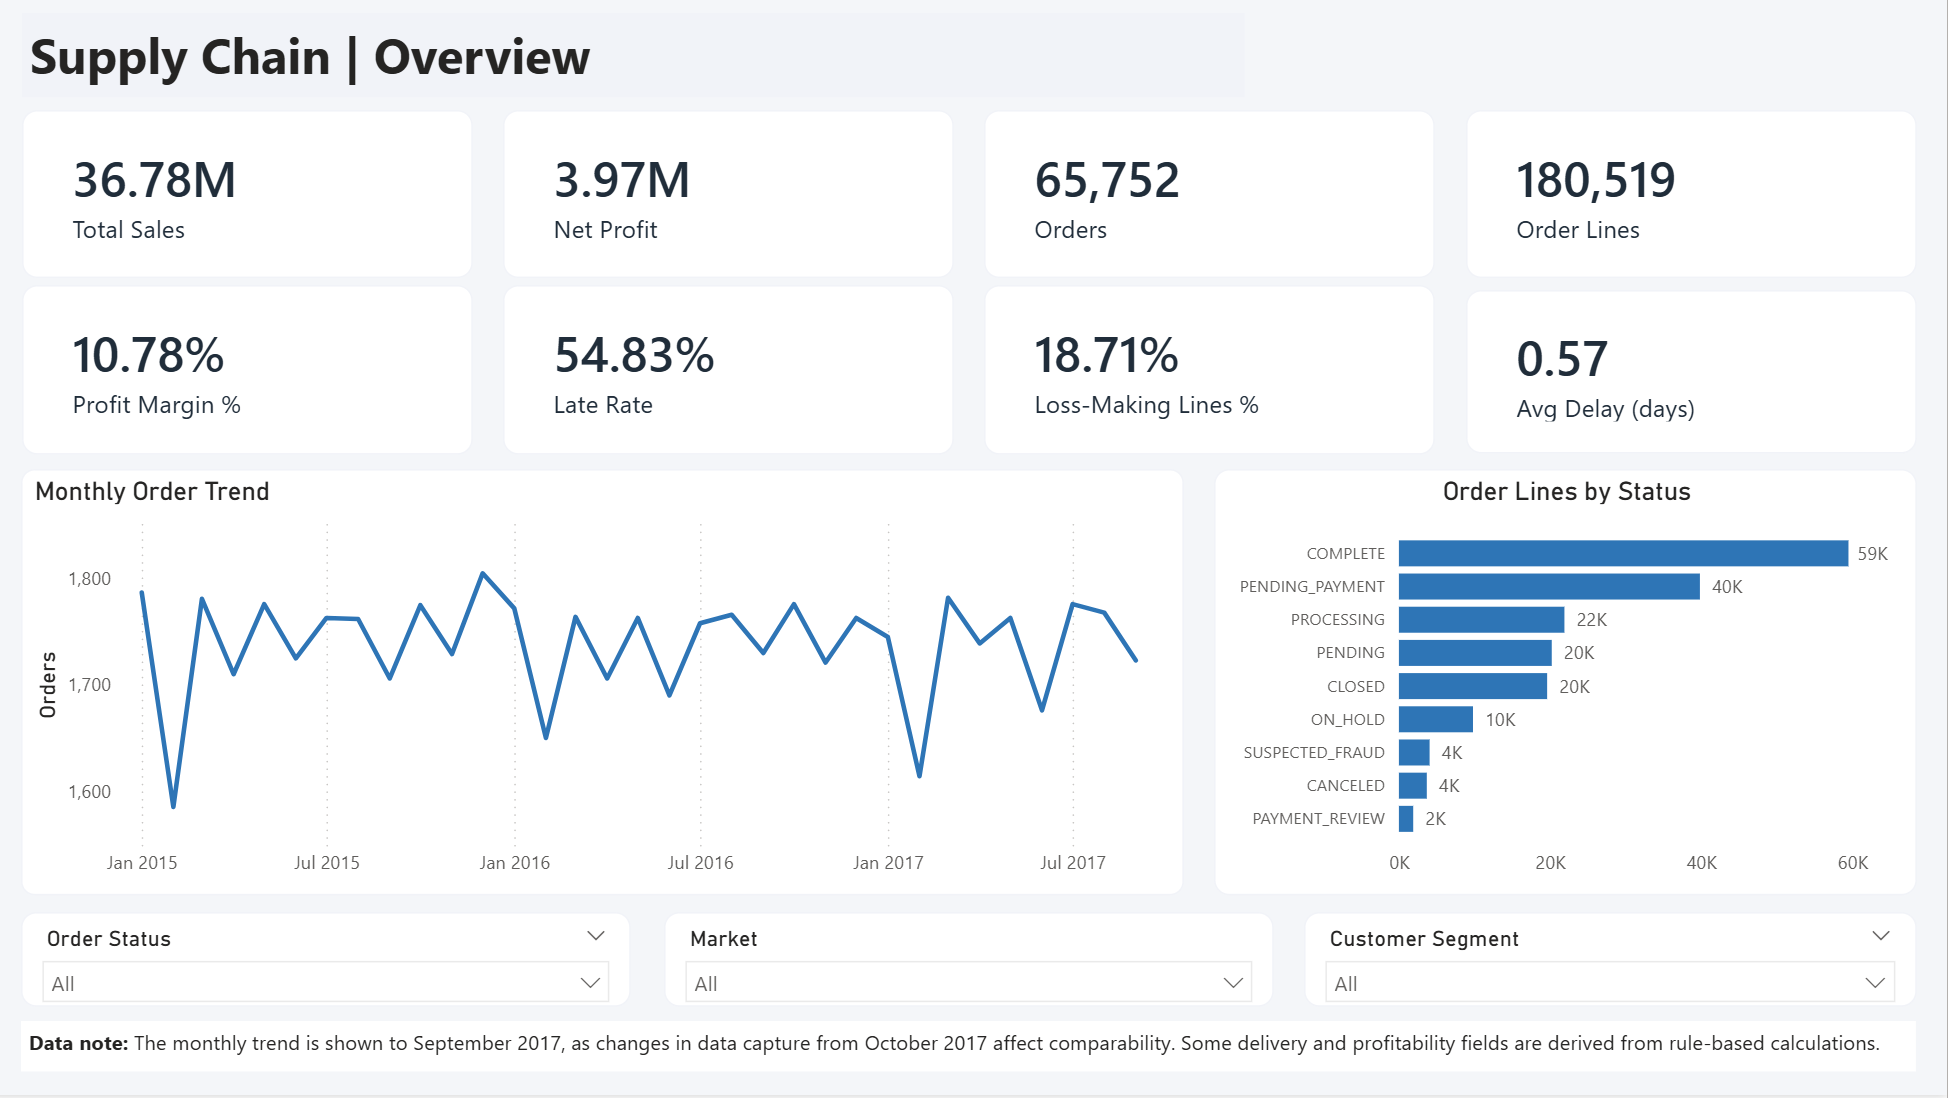

What the dashboard file says about the page in this screenshot:
{"tool":"powerbi","page":{"name":"Overview","canvas":[1280,720],"ordinal":0},"visuals":[{"type":"cardVisual","fields":{"Data":["clean_orders.Order Lines"]},"box":[965,75,295,110],"z":0},{"type":"cardVisual","fields":{"Data":["clean_orders.Total Orders"]},"box":[650,75,295,110],"z":1000},{"type":"cardVisual","fields":{"Data":["clean_orders.Total Sales"]},"box":[20,75,295,110],"z":2000},{"type":"cardVisual","fields":{"Data":["clean_orders.Net Profit"]},"box":[335.1,75,295,110],"z":3000},{"type":"cardVisual","fields":{"Data":["clean_orders.Profit Margin %"]},"box":[20.3,189.8,295.1,110.6],"z":4000},{"type":"cardVisual","fields":{"Data":["clean_orders.Late Rate"]},"box":[335,189.8,295.1,110.6],"z":5000},{"type":"cardVisual","fields":{"Data":["clean_orders.Loss-Making Lines %"]},"box":[650,189.8,295.1,110.6],"z":6000},{"type":"lineChart","title":"Monthly Order Trend","fields":{"Category":["Calendar.Month Start"],"Y":["clean_orders.Orders"]},"box":[19.8,310.4,760.6,279.5],"z":7000},{"type":"clusteredBarChart","title":"Order Lines by Status","fields":{"Y":["clean_orders.Order Lines"],"Category":["clean_orders.Order Status"]},"box":[800.2,310.4,460.1,279.5],"z":8000},{"type":"slicer","fields":{"Values":["clean_orders.Order Status"]},"box":[19.8,599.8,399.5,61.8],"z":9000},{"type":"slicer","fields":{"Values":["clean_orders.Market"]},"box":[440.3,599.8,399.5,61.8],"z":10000},{"type":"slicer","fields":{"Values":["clean_orders.Customer Segment"]},"box":[859.5,599.8,400.7,61.8],"z":11000},{"type":"textbox","box":[20,12,800,55],"z":12000},{"type":"cardVisual","fields":{"Data":["clean_orders.Avg Delay (days)"]},"box":[965.2,193,295.1,107.3],"z":13000},{"type":"textbox","box":[19.8,671.5,1240.4,33.4],"z":14000}]}

Visuals, with their boxes in screenshot pixels (x1, y1, x2, y2), scaled from the page's 1280x720 canvas onto the 1948x1098 screenshot:
cardVisual - clean_orders.Order Lines: detection(1469, 114, 1918, 282)
cardVisual - clean_orders.Total Orders: detection(989, 114, 1438, 282)
cardVisual - clean_orders.Total Sales: detection(30, 114, 479, 282)
cardVisual - clean_orders.Net Profit: detection(510, 114, 959, 282)
cardVisual - clean_orders.Profit Margin %: detection(31, 289, 480, 458)
cardVisual - clean_orders.Late Rate: detection(510, 289, 959, 458)
cardVisual - clean_orders.Loss-Making Lines %: detection(989, 289, 1438, 458)
"Monthly Order Trend" lineChart: detection(30, 473, 1188, 900)
"Order Lines by Status" clusteredBarChart: detection(1218, 473, 1918, 900)
slicer - clean_orders.Order Status: detection(30, 915, 638, 1009)
slicer - clean_orders.Market: detection(670, 915, 1278, 1009)
slicer - clean_orders.Customer Segment: detection(1308, 915, 1918, 1009)
textbox: detection(30, 18, 1248, 102)
cardVisual - clean_orders.Avg Delay (days): detection(1469, 294, 1918, 458)
textbox: detection(30, 1024, 1918, 1075)
